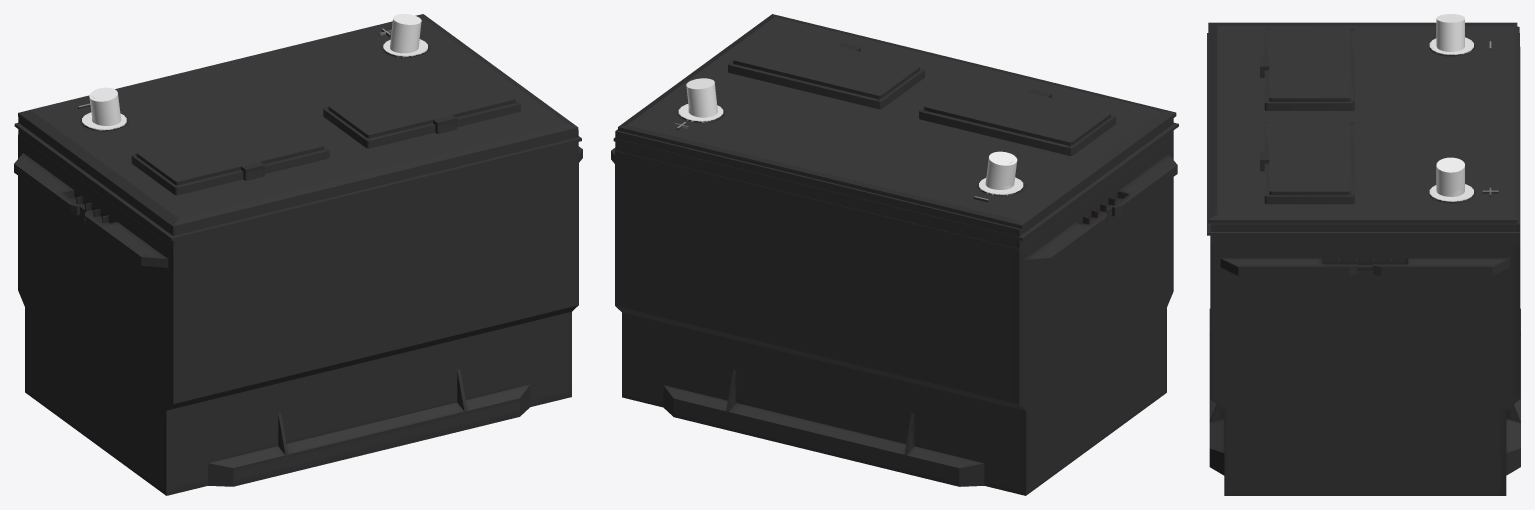
File: acumulador1.glb
3 views of the same model, side by side, from view 1: azimuth 30°, elevation 25°; view 2: azimuth 150°, elevation 25°; view 3: azimuth 270°, elevation 25° (orthographic).
Visible parts, largest first — view 1: node_id12, node_id8, node_id5, node_id15; view 2: node_id12, node_id8, node_id5, node_id15; view 3: node_id12, node_id5, node_id8, node_id15.
Part boxes in pixels (x1,y1,x2,y2): node_id12: (14, 14, 582, 495); node_id8: (390, 14, 421, 53); node_id5: (89, 87, 121, 125); node_id15: (82, 39, 427, 131); node_id12: (611, 14, 1178, 495); node_id8: (686, 78, 717, 117); node_id5: (985, 151, 1017, 189); node_id15: (678, 104, 1023, 195); node_id12: (1207, 22, 1520, 495); node_id5: (1436, 14, 1464, 51); node_id8: (1436, 157, 1464, 196); node_id15: (1429, 14, 1473, 202).
Bounding box in the file's own units: 0.512 × 0.3418 × 0.3162.
Materials: 5 (5 with a texture image).
